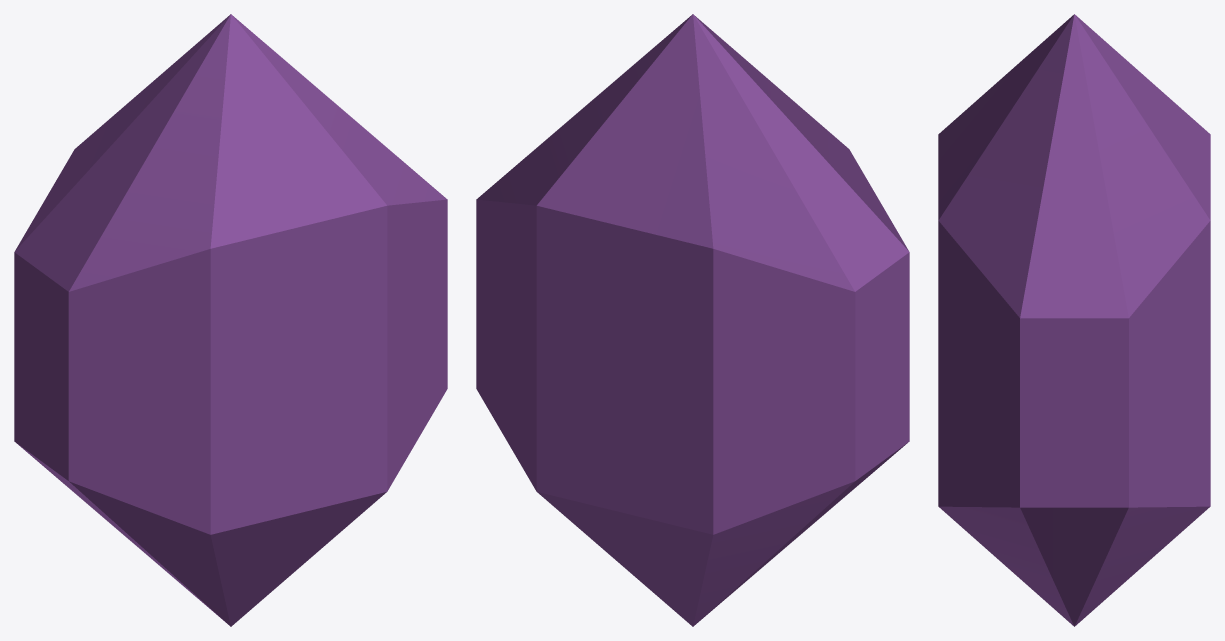
File: Ruby.fbx
3 views of the same model, side by side, from view 1: azimuth 30°, elevation 25°; view 2: azimuth 150°, elevation 25°; view 3: azimuth 270°, elevation 25° (orthographic).
Parts seen in each view (by area): view 1: Ruby; view 2: Ruby; view 3: Ruby.
Part boxes in pixels (x1,y1,x2,y2): Ruby: (14, 14, 447, 626); Ruby: (476, 14, 909, 626); Ruby: (938, 14, 1210, 626).
Size of the model in its own units: 0.7152 by 1.11 by 0.4447.
